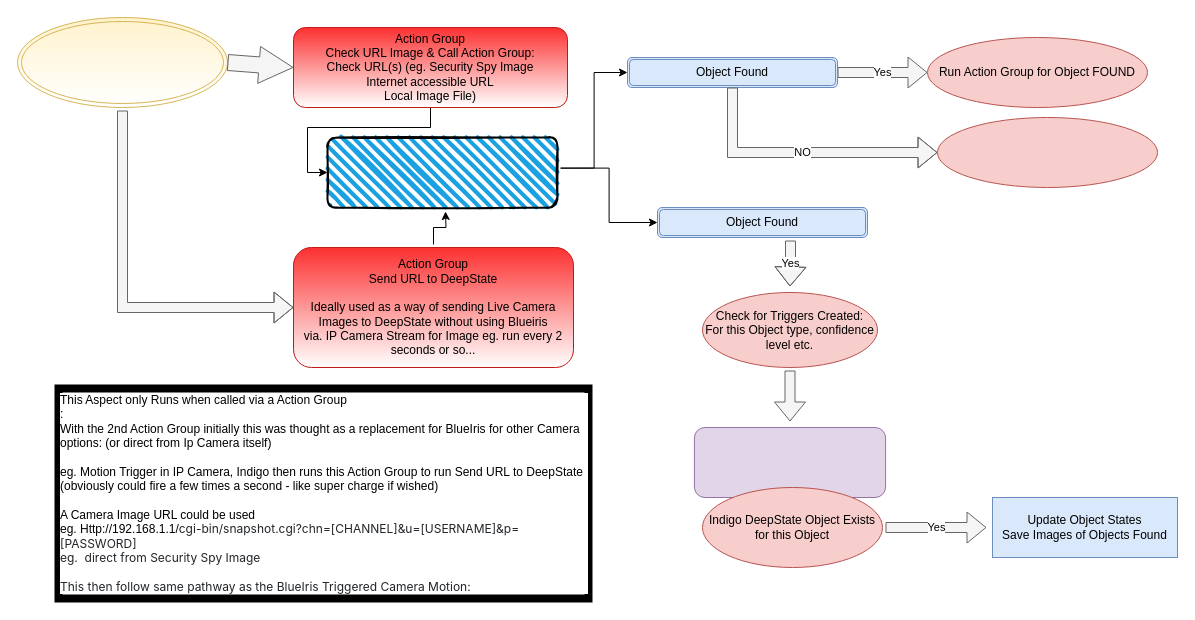
This 1195x620 diagram has some shape labels left out. The centre of each missing label's shape, as x and y in pixels:
"Check for DeepState Object Device for this Object Type" belongs at point 789,462.
"DeepState Indigo Plugin" belongs at point 122,62.
"DeepState IP" belongs at point 442,172.
"Run Action Group for Object NOT FOUND" belongs at point 1047,152.
